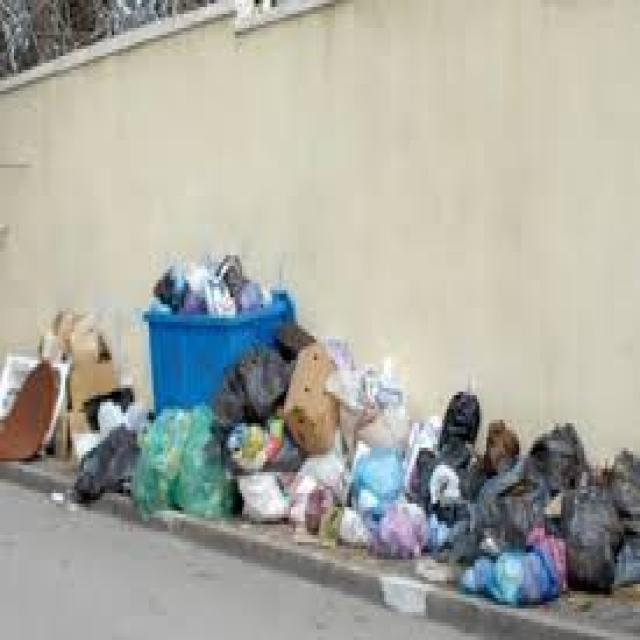Trashbag: (209, 349, 300, 426), (562, 489, 626, 589), (75, 421, 143, 505), (520, 428, 591, 492), (480, 497, 547, 556), (408, 450, 467, 512), (429, 388, 485, 446)
